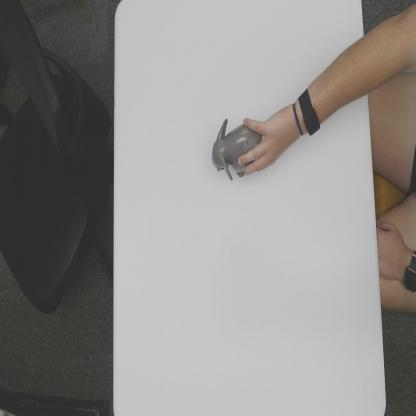Arm: (320, 34, 368, 127)
Elephant: (211, 114, 262, 180)
Hand: (237, 102, 299, 176)
